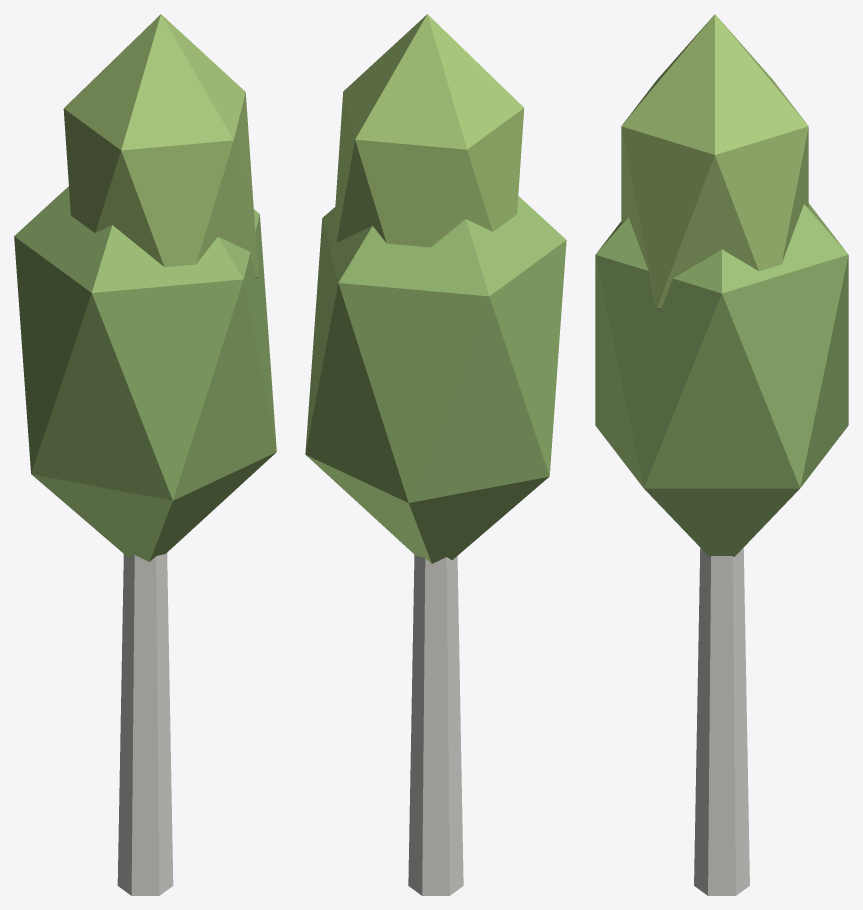
Rendered from TreeBirch.glb.
3 views of the same model, side by side, from view 1: azimuth 30°, elevation 25°; view 2: azimuth 150°, elevation 25°; view 3: azimuth 270°, elevation 25° (orthographic).
Parts seen in each view (by area): view 1: TreeBirch; view 2: TreeBirch; view 3: TreeBirch.
Boxes of the visible parts, bbox=[...] form: TreeBirch: bbox=[14, 14, 276, 895]; TreeBirch: bbox=[305, 14, 566, 895]; TreeBirch: bbox=[595, 14, 848, 895].
Bounding box in the file's own units: 1.9 × 6.92 × 1.81.
